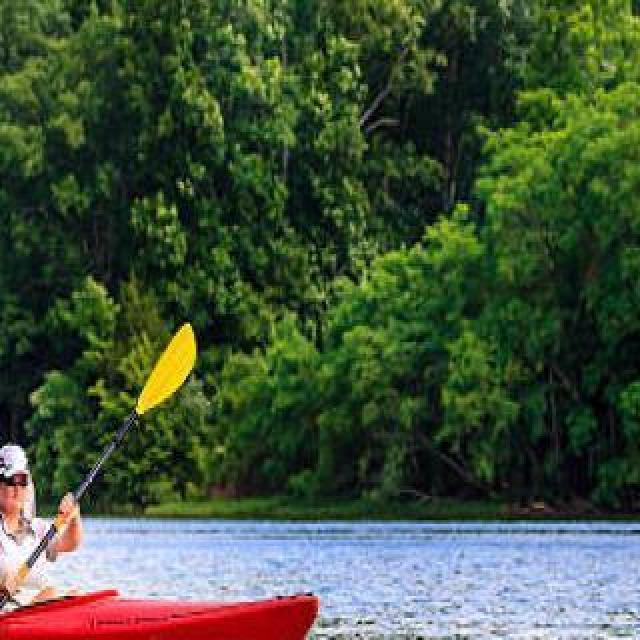kayak: (0, 590, 316, 640)
